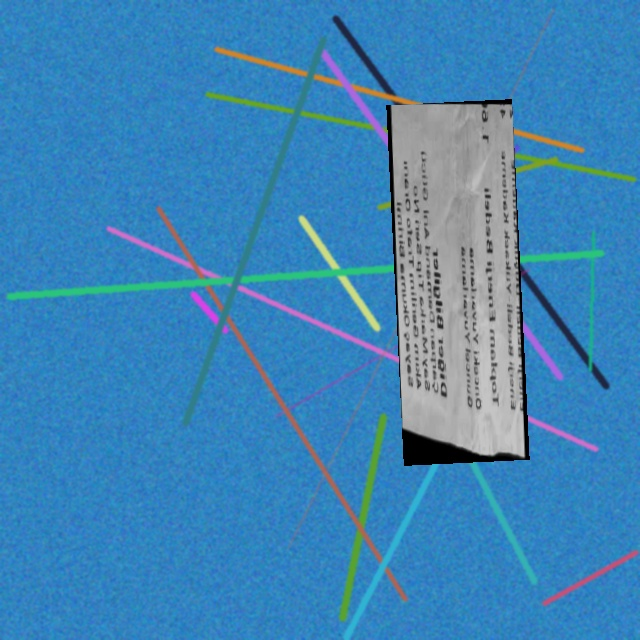electricity-bill: (386, 98, 530, 466)
